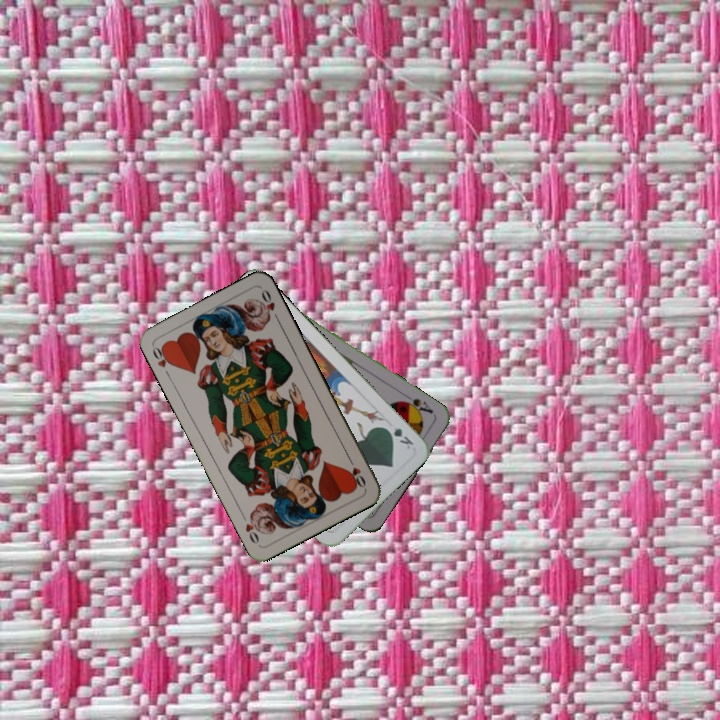GK: (381, 423, 416, 452)
HO: (148, 341, 176, 380), (344, 453, 368, 491)
SA: (398, 394, 436, 418)
